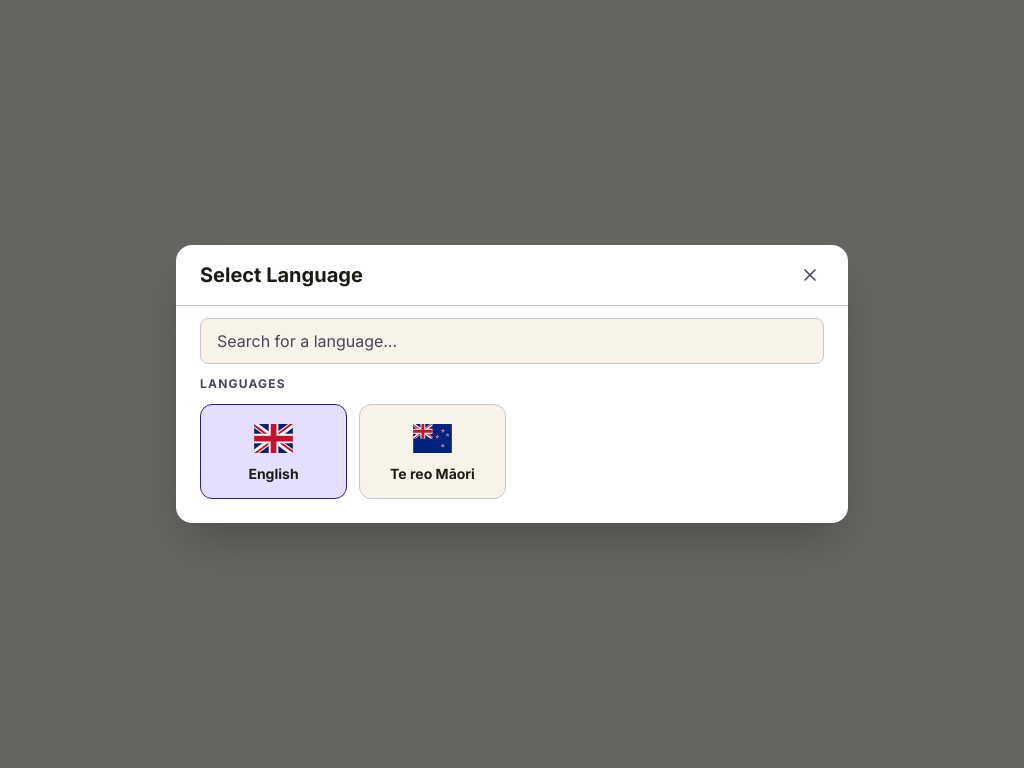
LanguagePickerModal › filters provided languages by search query
The width and height of the screenshot is (1024, 768).
Type "english" into the field with placeholder "Search for a language…" at (512, 341), box [200,318,824,364]
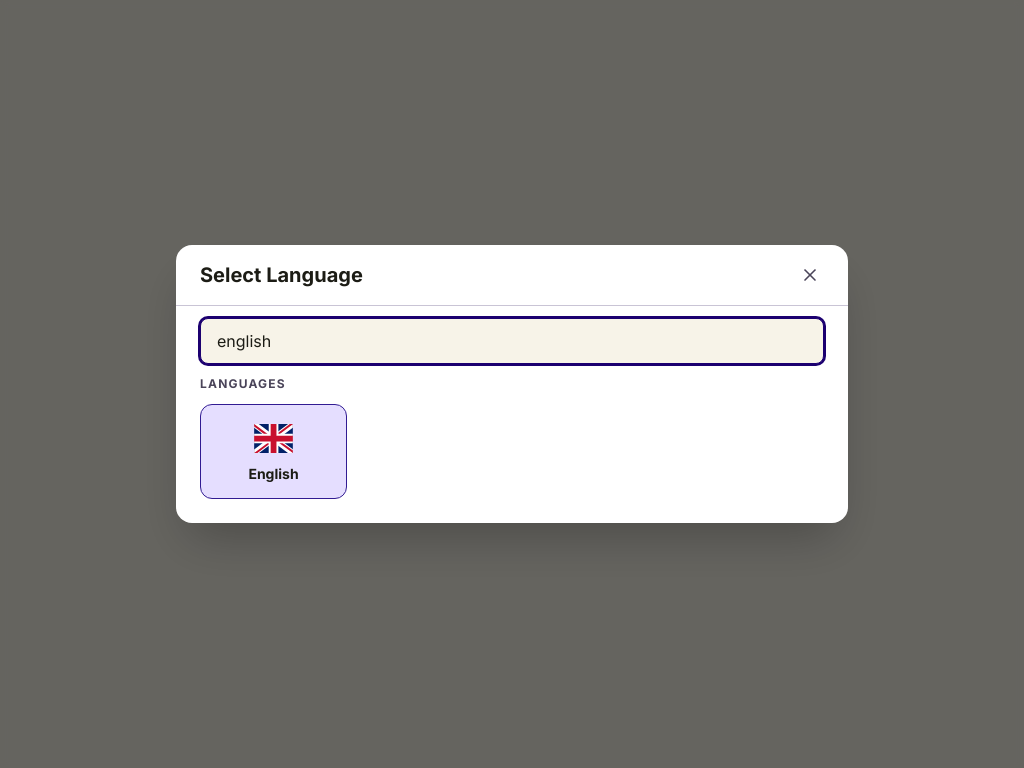
Expected: the text "English" is shown, [248,465,299,482]
Result: the button "Te reo Māori" is gone
